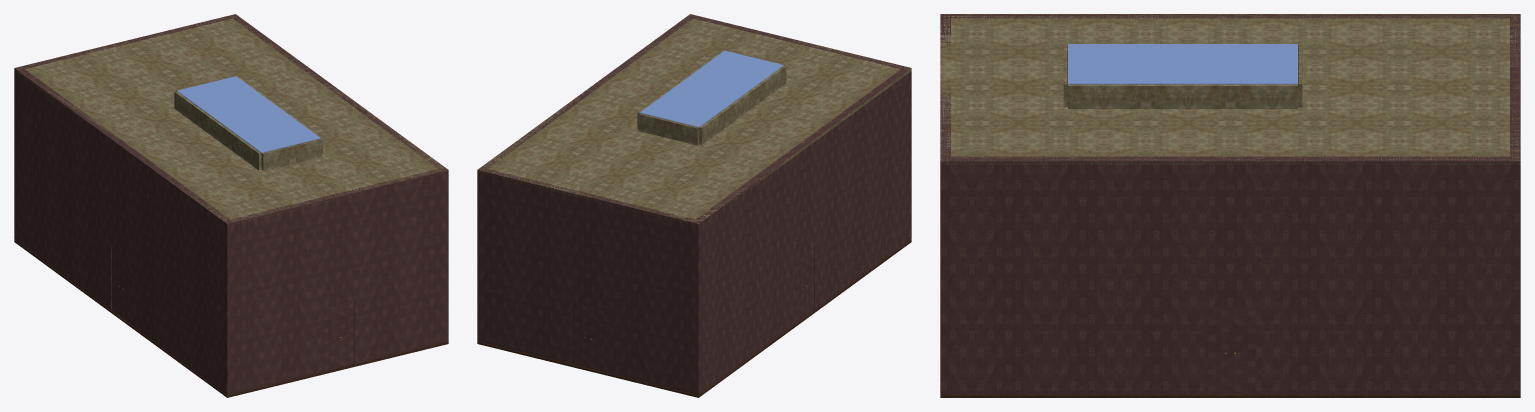
Rendered from Galeria.glb.
3 views of the same model, side by side, from view 1: azimuth 30°, elevation 25°; view 2: azimuth 150°, elevation 25°; view 3: azimuth 270°, elevation 25° (orthographic). The views are drawn at different scales.
Visible parts, largest first — view 1: Parede_S__Damasco, Teto__Reboco, Parede_O__Damasco, Claraboia__Vidro, Claraboia__Reboco, Fecho_S__Damasco, Parede_N__Damasco, Parede_L__Damasco, Piso__Ebanizada, Fecho_O__Damasco; view 2: Parede_N__Damasco, Teto__Reboco, Parede_O__Damasco, Claraboia__Vidro, Claraboia__Reboco, Fecho_N__Damasco, Parede_S__Damasco, Parede_L__Damasco, Piso__Ebanizada, Fecho_O__Damasco; view 3: Parede_L__Damasco, Teto__Reboco, Claraboia__Vidro, Claraboia__Reboco, Fecho_L__Damasco, Parede_N__Damasco, Parede_S__Damasco, Parede_O__Damasco, Piso__Ebanizada.
Boxes of the visible parts, bbox=[...] form: Parede_S__Damasco: bbox=[223, 167, 448, 395]; Teto__Reboco: bbox=[14, 14, 448, 226]; Parede_O__Damasco: bbox=[18, 69, 229, 391]; Claraboia__Vidro: bbox=[177, 76, 320, 152]; Claraboia__Reboco: bbox=[174, 75, 323, 170]; Fecho_S__Damasco: bbox=[321, 301, 353, 371]; Parede_N__Damasco: bbox=[14, 14, 238, 241]; Parede_L__Damasco: bbox=[233, 17, 444, 168]; Piso__Ebanizada: bbox=[14, 240, 448, 397]; Fecho_O__Damasco: bbox=[112, 248, 130, 323]; Parede_N__Damasco: bbox=[477, 167, 702, 395]; Teto__Reboco: bbox=[478, 14, 911, 226]; Parede_O__Damasco: bbox=[696, 69, 907, 391]; Claraboia__Vidro: bbox=[640, 50, 783, 127]; Claraboia__Reboco: bbox=[637, 50, 786, 145]; Fecho_N__Damasco: bbox=[572, 301, 604, 371]; Parede_S__Damasco: bbox=[686, 14, 911, 241]; Parede_L__Damasco: bbox=[481, 17, 692, 168]; Piso__Ebanizada: bbox=[477, 240, 911, 397]; Fecho_O__Damasco: bbox=[795, 248, 813, 323]; Parede_L__Damasco: bbox=[951, 156, 1509, 394]; Teto__Reboco: bbox=[940, 14, 1520, 164]; Claraboia__Vidro: bbox=[1068, 44, 1297, 84]; Claraboia__Reboco: bbox=[1063, 43, 1302, 108]; Fecho_L__Damasco: bbox=[1204, 308, 1256, 393]; Parede_N__Damasco: bbox=[1510, 14, 1520, 394]; Parede_S__Damasco: bbox=[940, 14, 950, 394]; Parede_O__Damasco: bbox=[951, 14, 1509, 18]; Piso__Ebanizada: bbox=[940, 394, 1520, 397].
Size of the model in its own units: 33 by 27.54 by 55.
23 materials, 21 textured.
